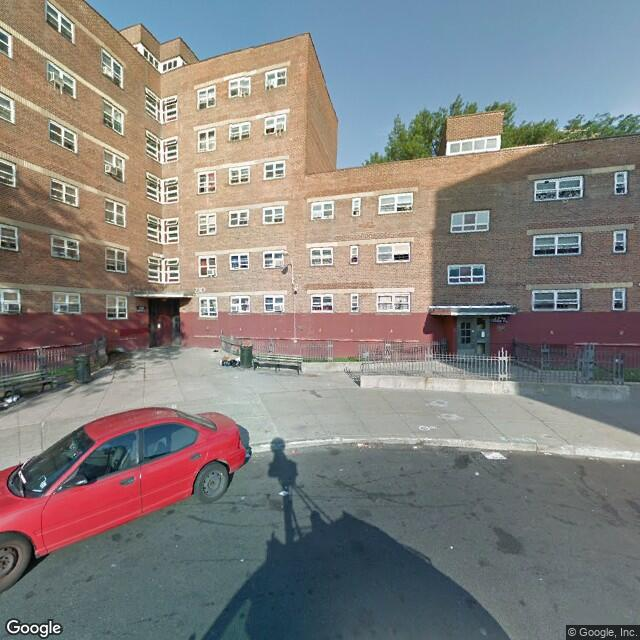litter: (471, 444, 522, 472), (1, 396, 35, 410), (218, 356, 242, 370)
